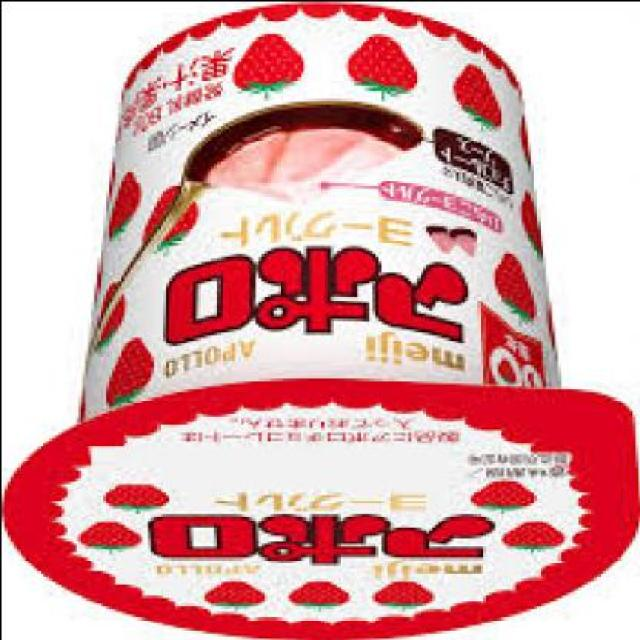PLASTIC: (3, 3, 639, 639)
